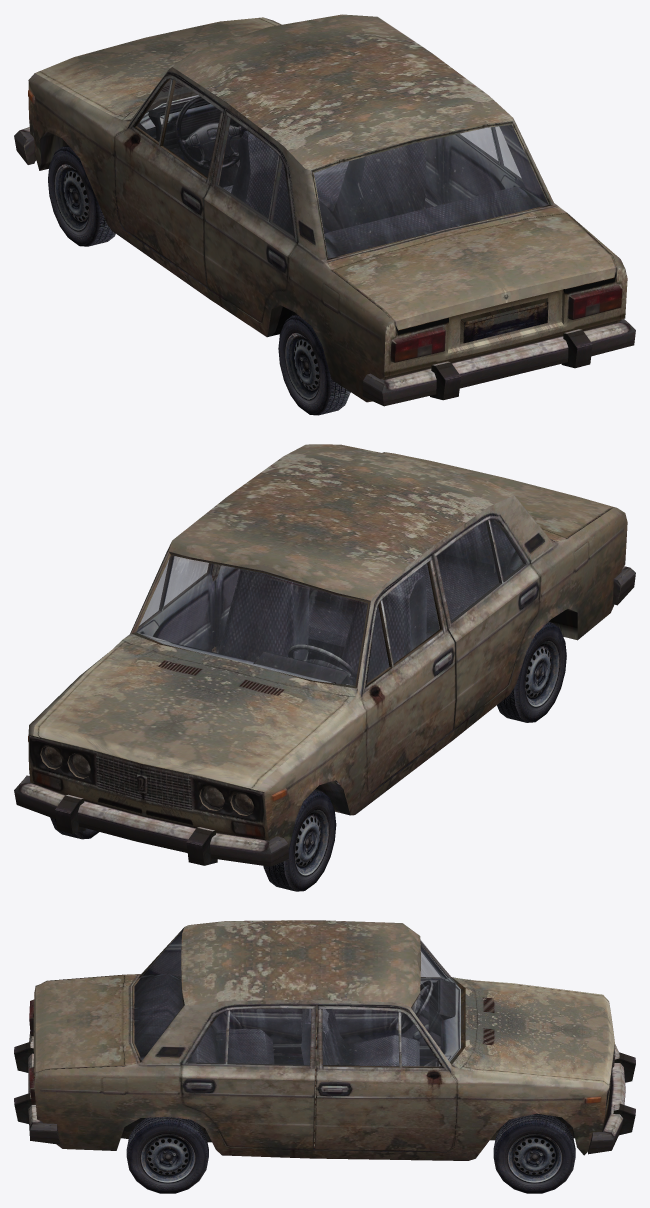
File: car.obj
3 renders of one model, top to bottom at view 1: azimuth 30°, elevation 25°; view 2: azimuth 150°, elevation 25°; view 3: azimuth 270°, elevation 25°, orthographic. The views are drawn at different scales.
Visible parts, largest first — view 1: Body1, Glass1, Interior1, 11, 14, SteeringWheel1; view 2: Body1, Glass1, Interior1, 14, 11, SteeringWheel1; view 3: Body1, Glass1, Interior1, 13, 12, Cover3, SteeringWheel1, Cover2.
Part boxes in pixels (x1=…): Body1: x1=14, y1=14, x2=635, y2=406; Glass1: x1=137, y1=79, x2=548, y2=258; Interior1: x1=114, y1=95, x2=548, y2=258; 11: x1=278, y1=315, x2=350, y2=415; 14: x1=48, y1=146, x2=100, y2=246; SteeringWheel1: x1=175, y1=96, x2=246, y2=170; Body1: x1=14, y1=444, x2=635, y2=866; Glass1: x1=136, y1=520, x2=523, y2=685; Interior1: x1=136, y1=519, x2=523, y2=685; 14: x1=263, y1=791, x2=336, y2=891; 11: x1=514, y1=623, x2=566, y2=722; SteeringWheel1: x1=288, y1=644, x2=356, y2=685; Body1: x1=14, y1=920, x2=635, y2=1160; Glass1: x1=135, y1=930, x2=460, y2=1066; Interior1: x1=134, y1=930, x2=460, y2=1152; 13: x1=493, y1=1120, x2=575, y2=1193; 12: x1=126, y1=1120, x2=208, y2=1193; Cover3: x1=493, y1=1113, x2=575, y2=1155; SteeringWheel1: x1=396, y1=980, x2=433, y2=1033; Cover2: x1=126, y1=1117, x2=208, y2=1156.
Bounding box in the file's own units: 8.8 × 7.8 × 22.52.
5 materials, 5 textured.
